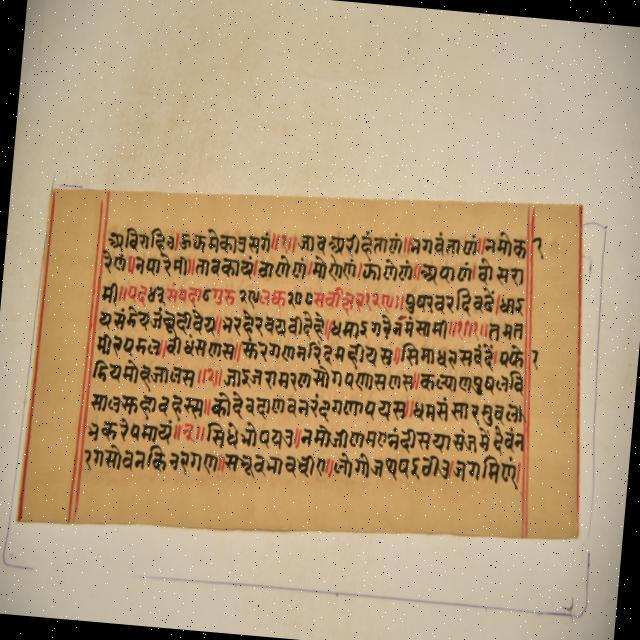text_paragraph: (17, 180, 581, 538)
